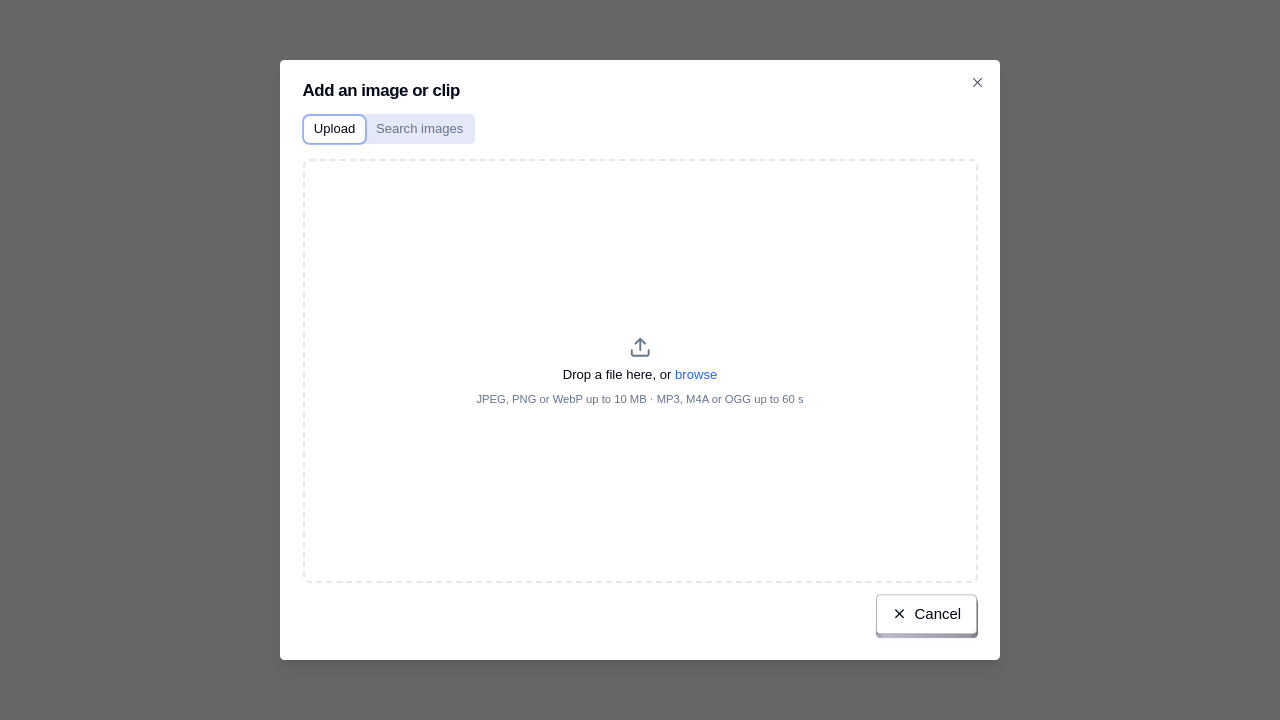
AddMediaDialog — the two sources › opens on Upload, and only asks for the image sources once Search is chosen
Expected: the radio button labelled "Upload" is checked, [304, 116, 365, 143]
Expected: the file field named "Choose an image or audio clip" is shown, [302, 159, 978, 583]
Click the radio button labelled "Search images": x=420, y=129 [366, 116, 473, 143]
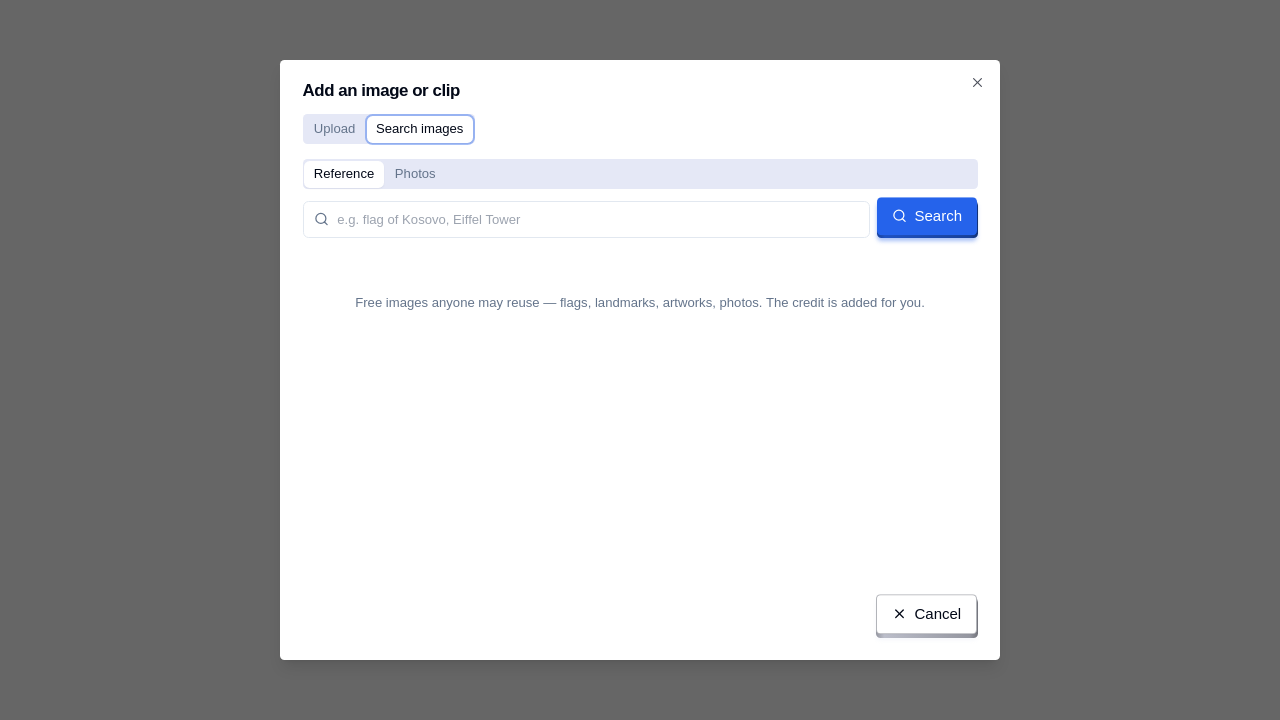
Expected: the search field named "Search free images" is shown, [302, 201, 870, 238]
